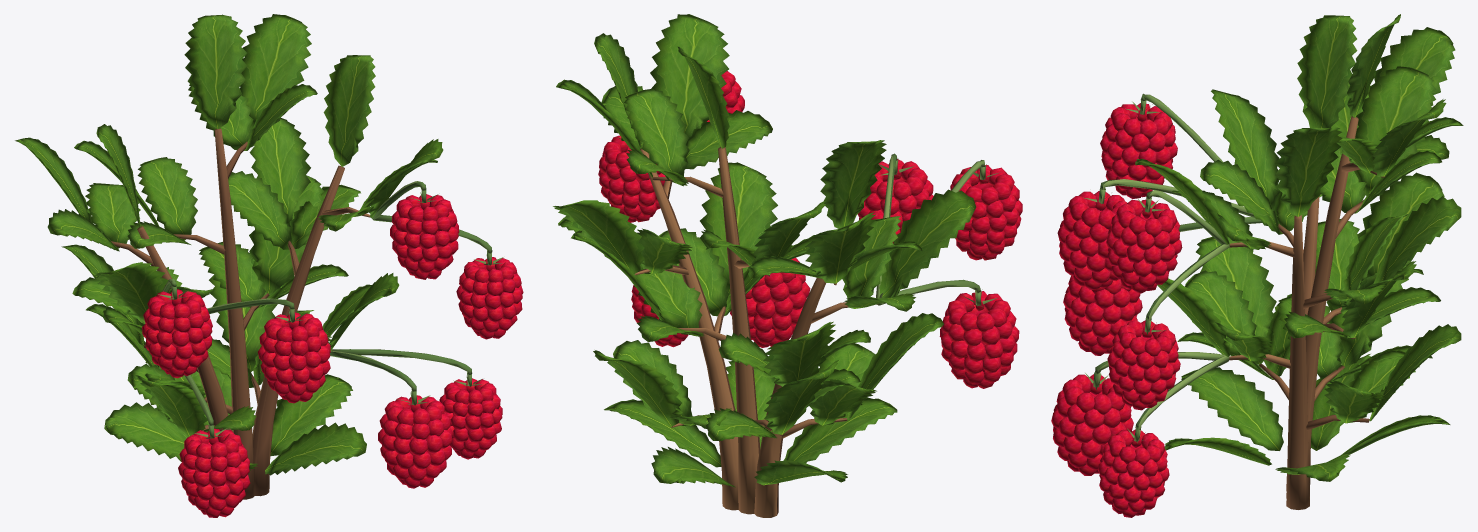
The model's file is NP_Raspberry_Ready.fbx.
3 renders of one model, left to right at view 1: azimuth 30°, elevation 25°; view 2: azimuth 150°, elevation 25°; view 3: azimuth 270°, elevation 25°, orthographic. The views are drawn at different scales.
Parts seen in each view (by area): view 1: NP_Raspberry_Ready; view 2: NP_Raspberry_Ready; view 3: NP_Raspberry_Ready.
Boxes of the visible parts, x1,y1,x2,y2 form: NP_Raspberry_Ready: (15, 14, 523, 517); NP_Raspberry_Ready: (553, 14, 1022, 517); NP_Raspberry_Ready: (1051, 14, 1463, 517).
Bounding box in the file's own units: 92.82 × 104 × 79.98.
